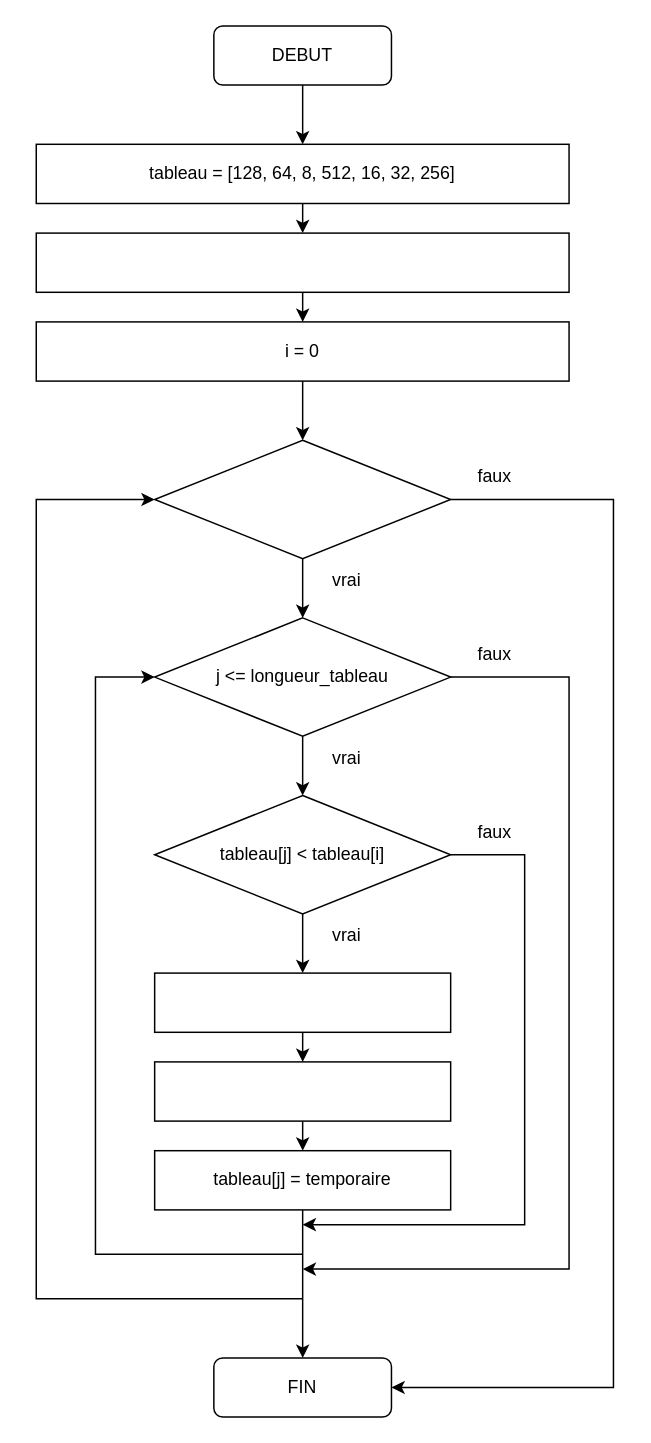
Some shapes in this 651 by 1443 pixel diagram are drawn without their labels. Each missing label, with the centre of its shape:
"i <= longueur_tableau" goes at (x=302, y=499).
"longeur_tableau = tab.length (tableau)" goes at (x=302, y=262).
"tableau[i] = tableau[j]" goes at (x=302, y=1090).
"temporaire = tableau[i]" goes at (x=302, y=1002).
